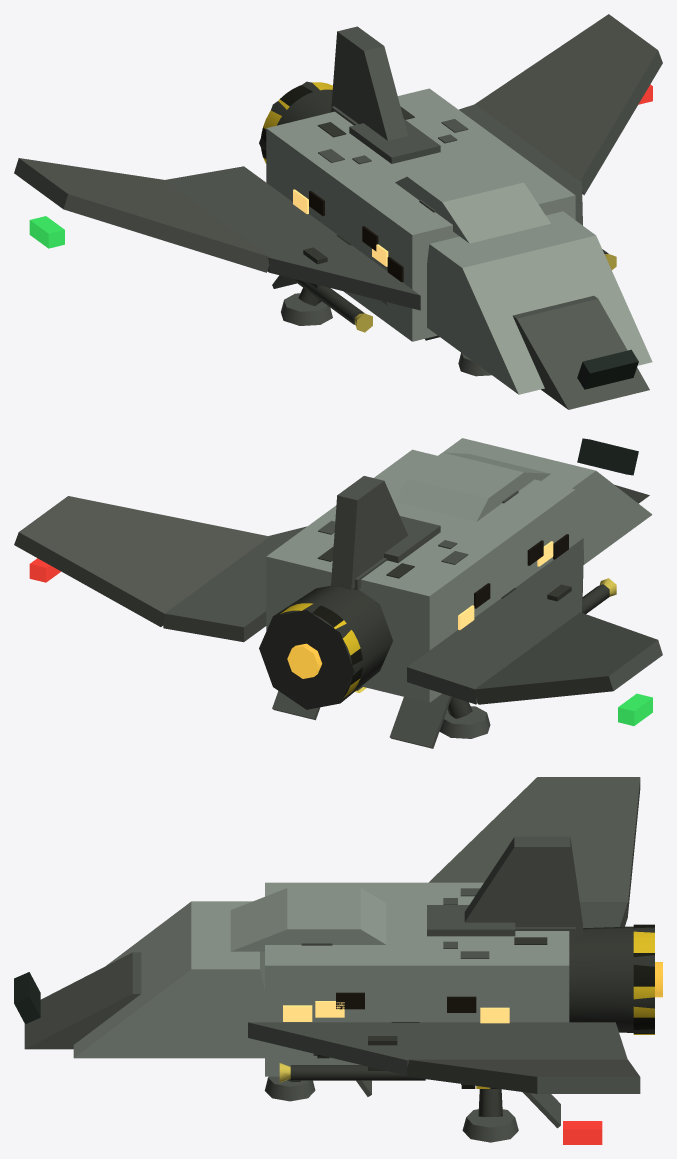
File: fighter-s.glb
The picture shows the model from 3 angles, top to bottom: view 1: azimuth 30°, elevation 25°; view 2: azimuth 150°, elevation 25°; view 3: azimuth 270°, elevation 25°; orthographic projection. The views are drawn at different scales.
Parts seen in each view (by area): view 1: hullMain, hullForebody, wingOuterRight, wingInnerLeft, wingOuterLeft, hullNose, canopyFairing, stabilizerFin, wingInnerRight, accentStripe, cockpitGlass, engineHousing (+3 smaller); view 2: hullMain, wingOuterRight, wingInnerLeft, engineHousing, wingOuterLeft, wingInnerRight, hullForebody, canopyFairing, stabilizerFin, gearBayDoor (×2), cockpitGlass, accentStripe (+5 smaller); view 3: hullMain, hullForebody, wingOuterLeft, wingInnerRight, canopyFairing, stabilizerFin, wingOuterRight, engineHousing, hullNose, gearFoot (×2), accentStripe, laserBarrel (+6 smaller).
Part boxes in pixels (box(x1,y1,x2,y2)): hullMain: box(266, 88, 575, 341); hullForebody: box(427, 211, 652, 394); wingOuterRight: box(475, 14, 662, 195); wingInnerLeft: box(165, 166, 420, 310); wingOuterLeft: box(14, 158, 269, 272); hullNose: box(513, 295, 649, 409); canopyFairing: box(395, 156, 550, 243); stabilizerFin: box(331, 26, 408, 140); wingInnerRight: box(459, 104, 582, 225); accentStripe: box(349, 119, 440, 163); cockpitGlass: box(577, 349, 638, 389); engineHousing: box(259, 81, 332, 150); hullMain: box(266, 449, 575, 702); wingOuterRight: box(14, 496, 269, 626); wingInnerLeft: box(407, 538, 583, 704); engineHousing: box(259, 585, 392, 709); wingOuterLeft: box(473, 612, 662, 704); wingInnerRight: box(163, 526, 306, 642); hullForebody: box(443, 438, 652, 564); canopyFairing: box(395, 452, 550, 521); stabilizerFin: box(331, 476, 408, 590); gearBayDoor (×2): box(272, 691, 451, 748); cockpitGlass: box(577, 438, 638, 475); accentStripe: box(384, 516, 440, 562); hullMain: box(265, 882, 569, 1076); hullForebody: box(73, 901, 264, 1058); wingOuterLeft: box(429, 777, 640, 913); wingInnerRight: box(248, 1022, 627, 1075); canopyFairing: box(230, 888, 386, 951); stabilizerFin: box(464, 836, 582, 935); wingOuterRight: box(407, 1059, 640, 1093); engineHousing: box(569, 926, 654, 1033); hullNose: box(24, 952, 141, 1049); gearFoot (×2): box(264, 1076, 518, 1142); accentStripe: box(427, 905, 515, 936); laserBarrel: box(290, 1065, 425, 1080).
Size of the model in its own units: 2.96 by 1.12 by 2.65.
